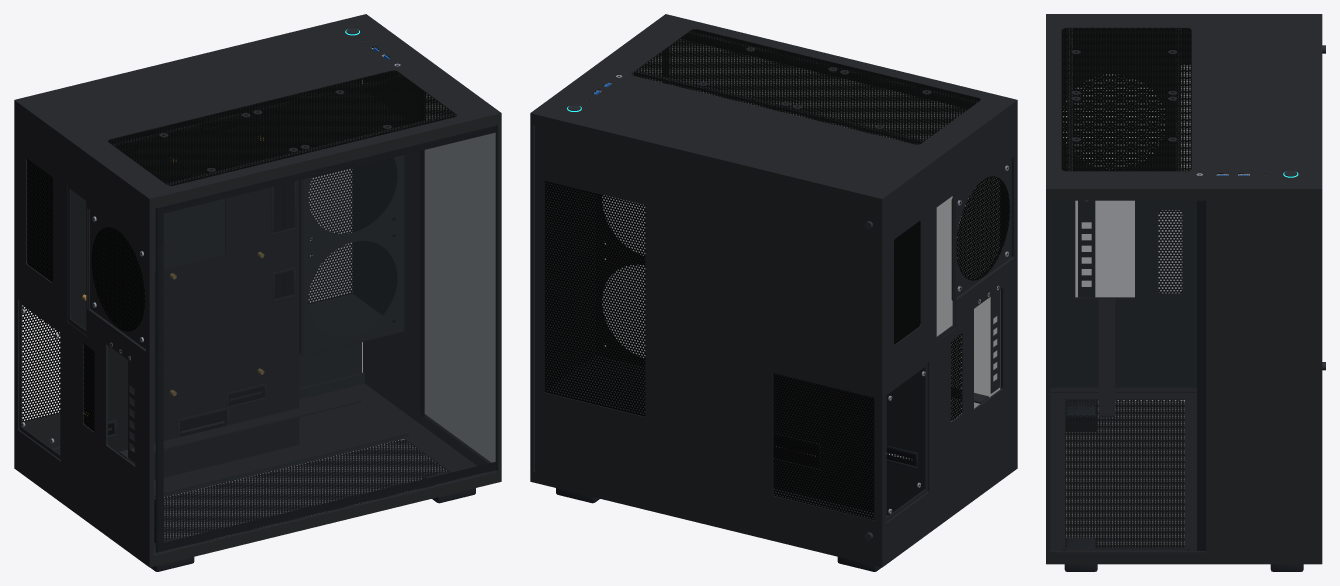
Rendered from f_case_showcase_dual_chamber.glb.
The picture shows the model from 3 angles, left to right: view 1: azimuth 30°, elevation 25°; view 2: azimuth 150°, elevation 25°; view 3: azimuth 270°, elevation 25°; orthographic projection.
Visible parts, largest first — view 1: part_case, panel_open, panel_closed; view 2: part_case, panel_closed, panel_open; view 3: part_case.
Boxes of the visible parts, x1,y1,x2,y2 form: part_case: (14, 14, 501, 571); panel_open: (155, 125, 497, 553); panel_closed: (22, 81, 361, 448); part_case: (530, 14, 1017, 571); panel_closed: (535, 125, 877, 555); panel_open: (669, 35, 1006, 421); part_case: (1046, 14, 1322, 571).
Bounding box in the file's own units: 4.5 × 4.71 × 3.04.
15 materials, 1 textured.
